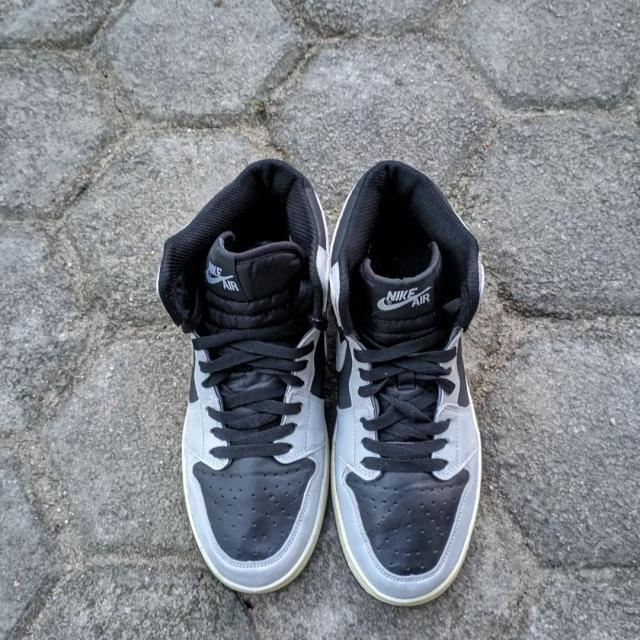nike fake jordan 1: (159, 155, 333, 600), (326, 157, 488, 612)
